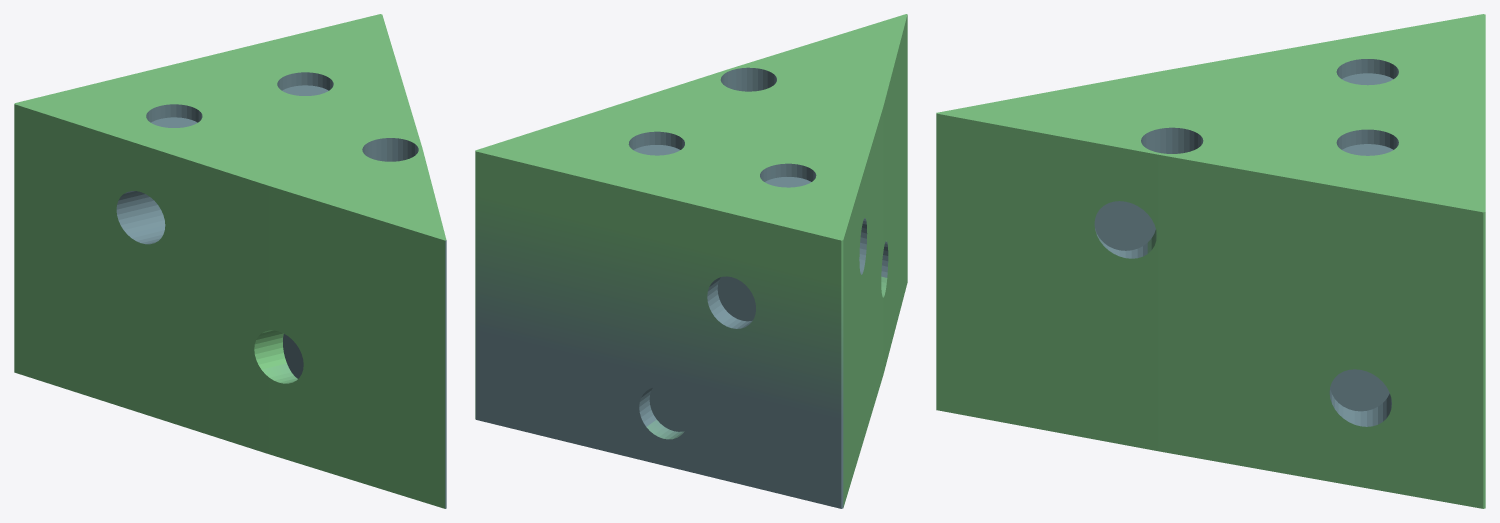
File: juusto_GJ22.fbx
The picture shows the model from 3 angles, left to right: view 1: azimuth 30°, elevation 25°; view 2: azimuth 150°, elevation 25°; view 3: azimuth 270°, elevation 25°; orthographic projection. The views are drawn at different scales.
Parts seen in each view (by area): view 1: juusto; view 2: juusto; view 3: juusto.
Part boxes in pixels (box(x1,y1,x2,y2)): juusto: box(14, 14, 446, 508); juusto: box(475, 14, 907, 508); juusto: box(936, 14, 1485, 508).
Bounding box in the file's own units: 14.35 × 10 × 16.78.
